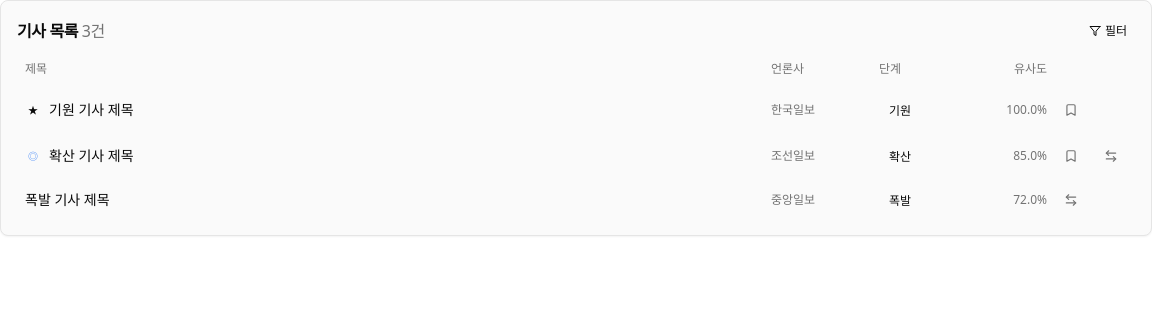
Scenario: ArticleList › shows filter panel when filter button is clicked
Click the button "필터" at (1108, 31), box [1081, 17, 1135, 45]
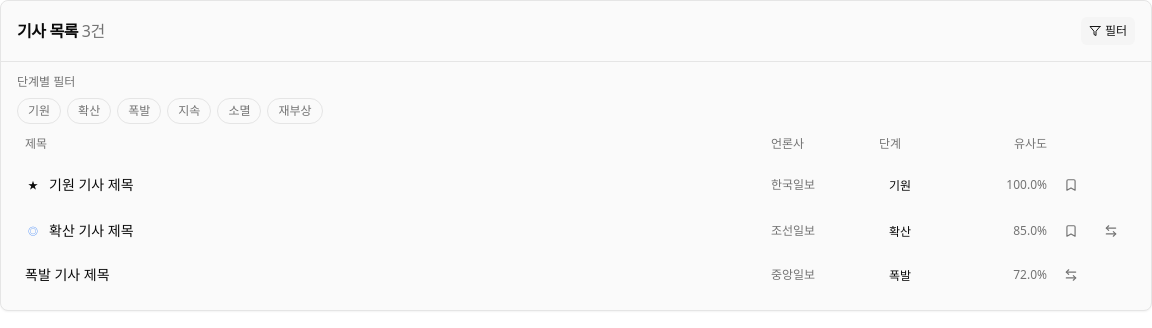
Expected: the text "단계별 필터" is shown, [17, 73, 75, 90]
